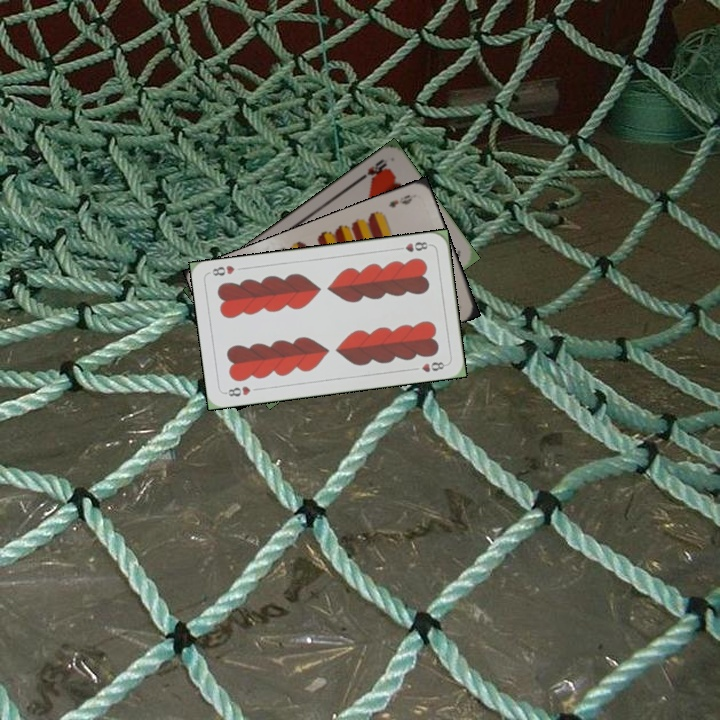E9: (384, 191, 415, 210)
H8: (392, 237, 433, 255), (221, 382, 253, 399)
HO: (355, 155, 389, 183)
